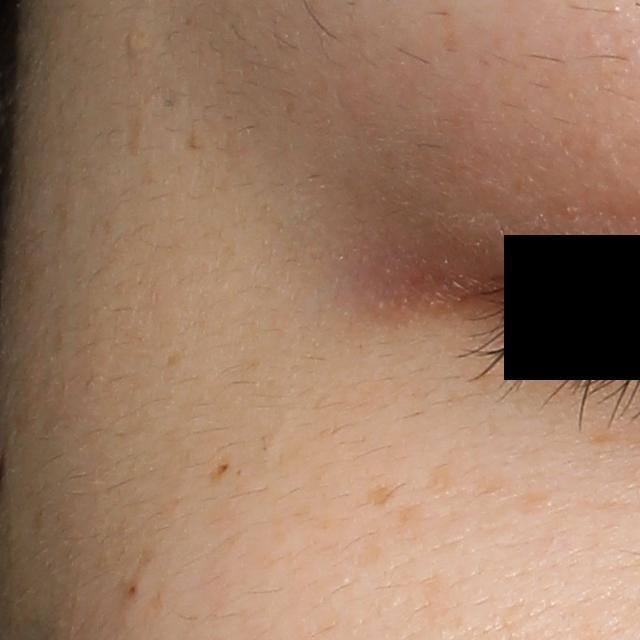melasma: (416, 463, 465, 501), (515, 485, 560, 517), (395, 503, 429, 542), (360, 483, 405, 512), (209, 457, 237, 481)
